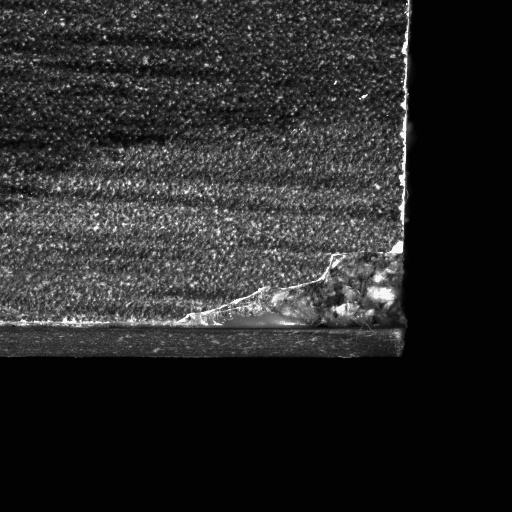bengque: (181, 250, 404, 327)
